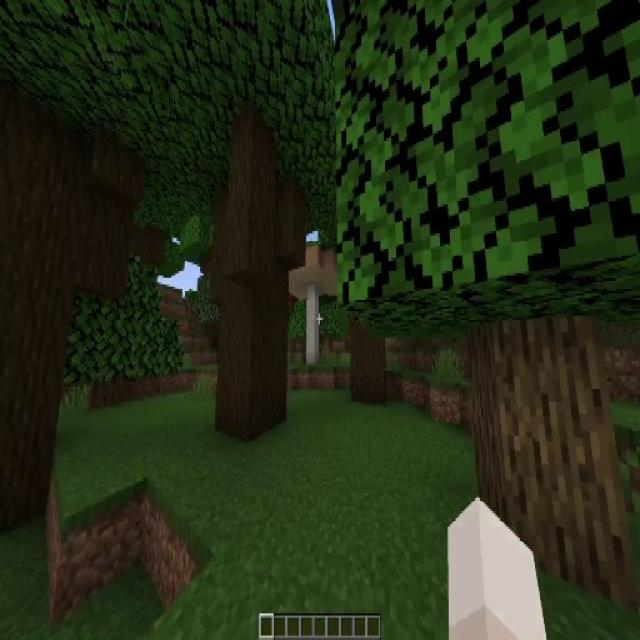dark_oak: (166, 0, 340, 437)
dark_oak_log: (0, 114, 110, 512), (220, 117, 288, 435), (350, 316, 388, 403)
oak: (339, 11, 640, 597), (56, 242, 176, 407)
oak_log: (470, 317, 629, 593)
